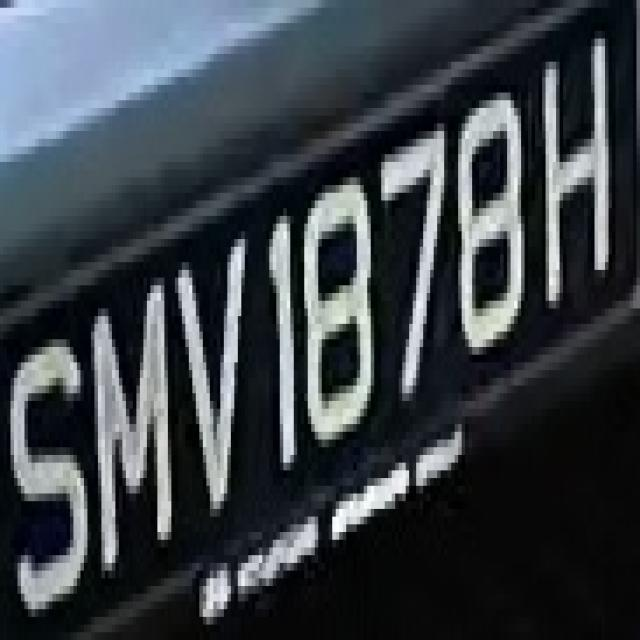1: (266, 170, 304, 509)
7: (360, 123, 458, 432)
8: (290, 162, 378, 447), (448, 85, 528, 370)
H: (532, 16, 633, 332)
M: (84, 239, 178, 578)
S: (0, 3, 1, 8)
V: (157, 239, 255, 524)
